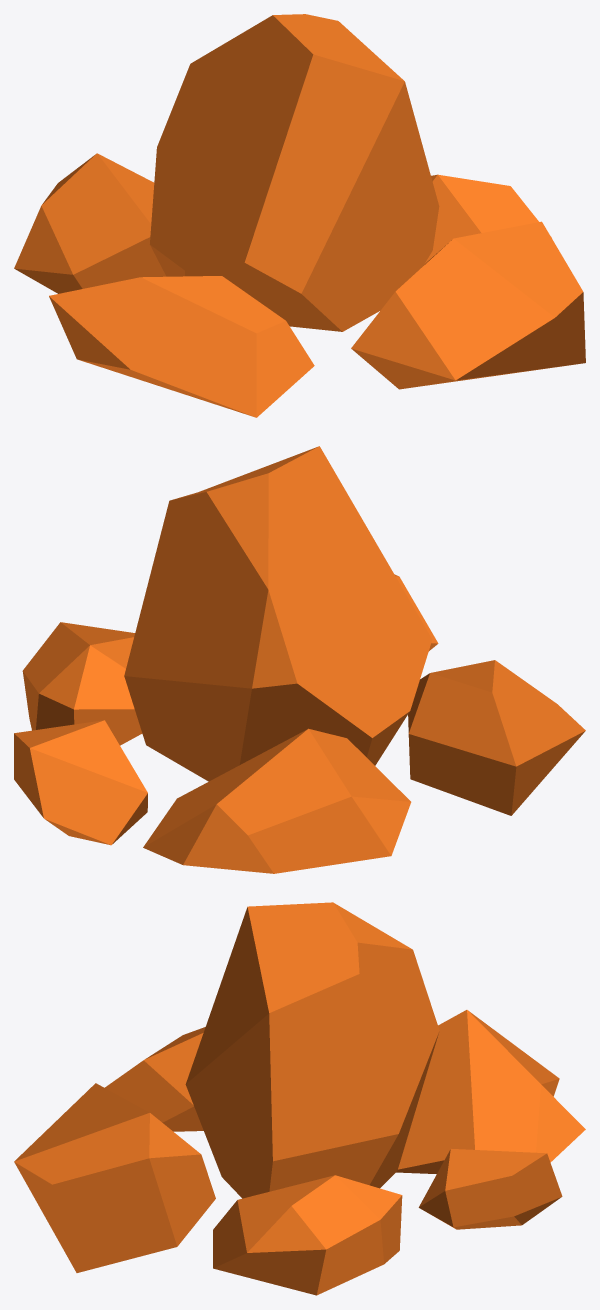
File: resources_iron-ore.fbx
The picture shows the model from 3 angles, top to bottom: view 1: azimuth 30°, elevation 25°; view 2: azimuth 150°, elevation 25°; view 3: azimuth 270°, elevation 25°; orthographic projection. The views are drawn at different scales.
Visible parts, largest first — view 1: resources_iron_ore; view 2: resources_iron_ore; view 3: resources_iron_ore.
Part boxes in pixels (x1,y1,x2,y2): resources_iron_ore: (14,14,585,417); resources_iron_ore: (14,446,585,873); resources_iron_ore: (14,902,585,1295).
Size of the model in its own units: 181 by 112 by 200.
